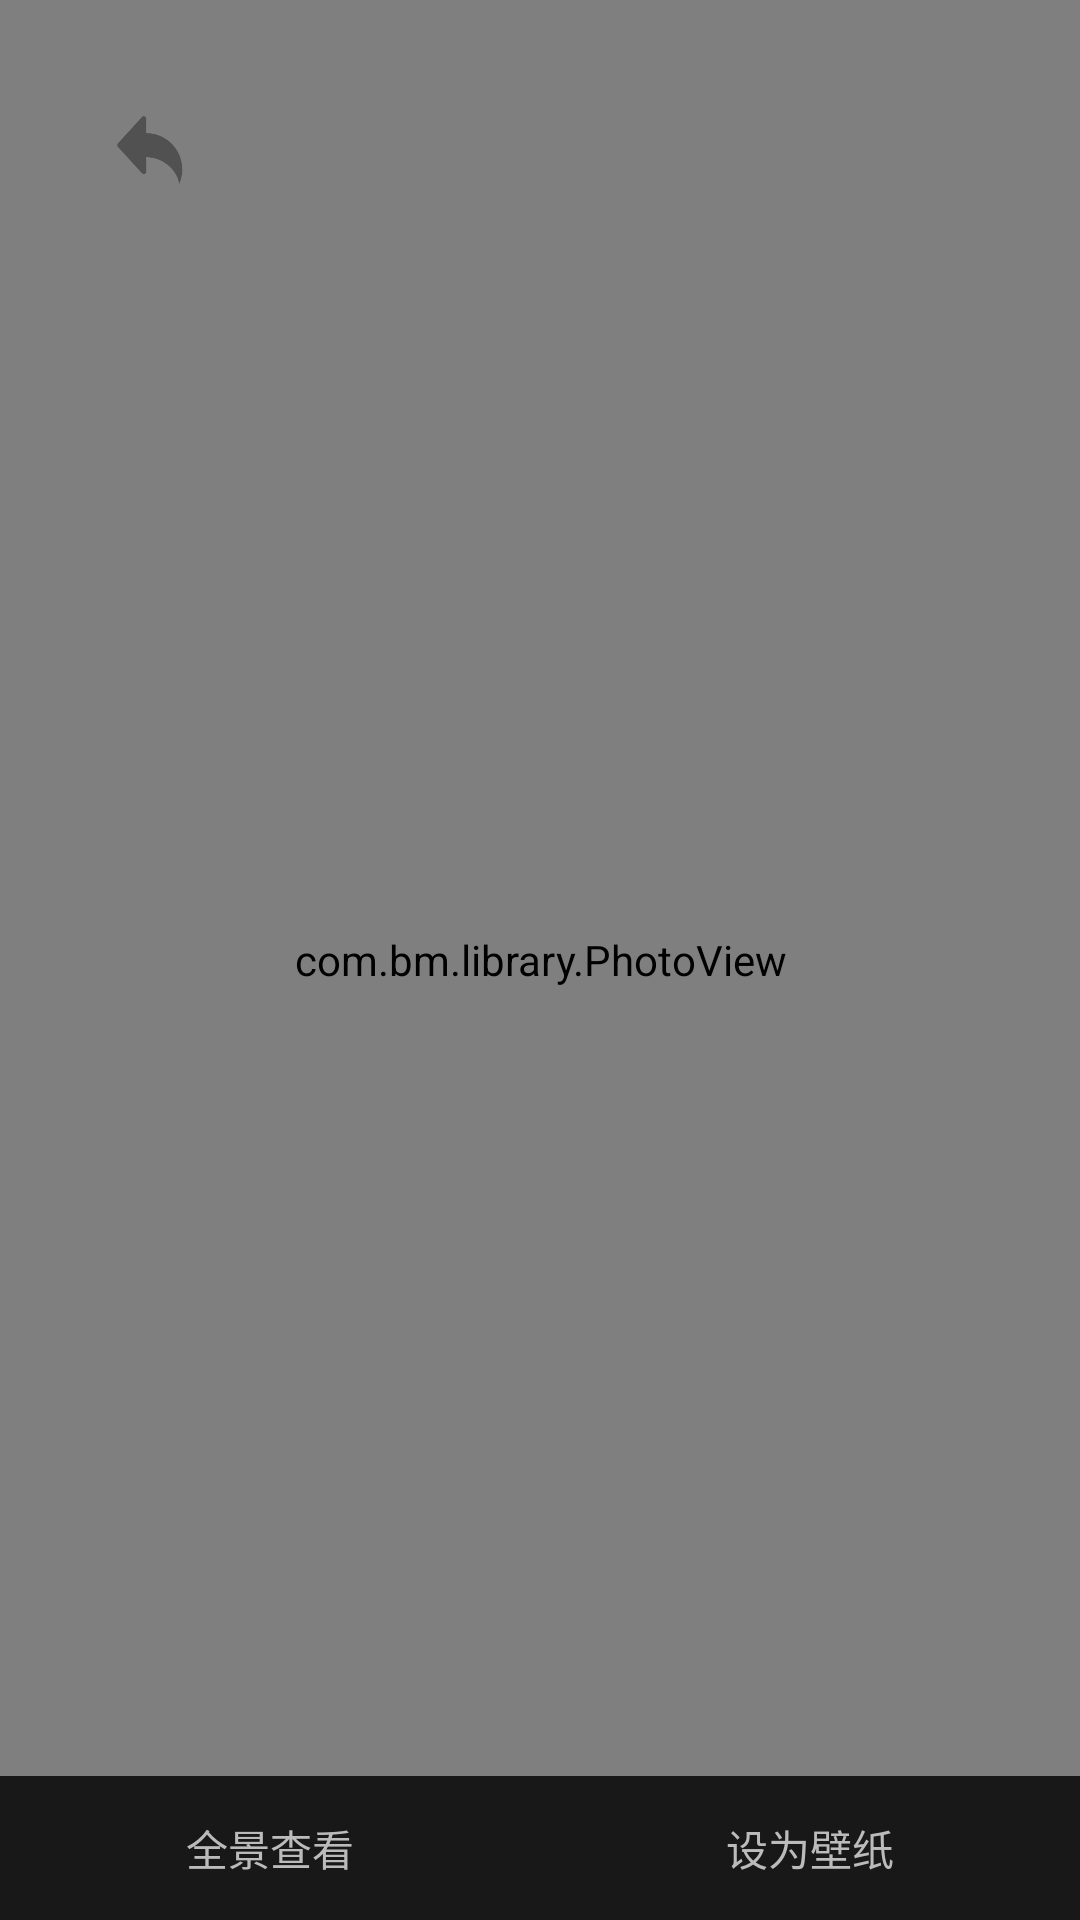

Locate icon controls on the screen. Image size 1080px x 1920px, boxes as (x1, y1, x2, y2).
back: (117, 116, 182, 183)
